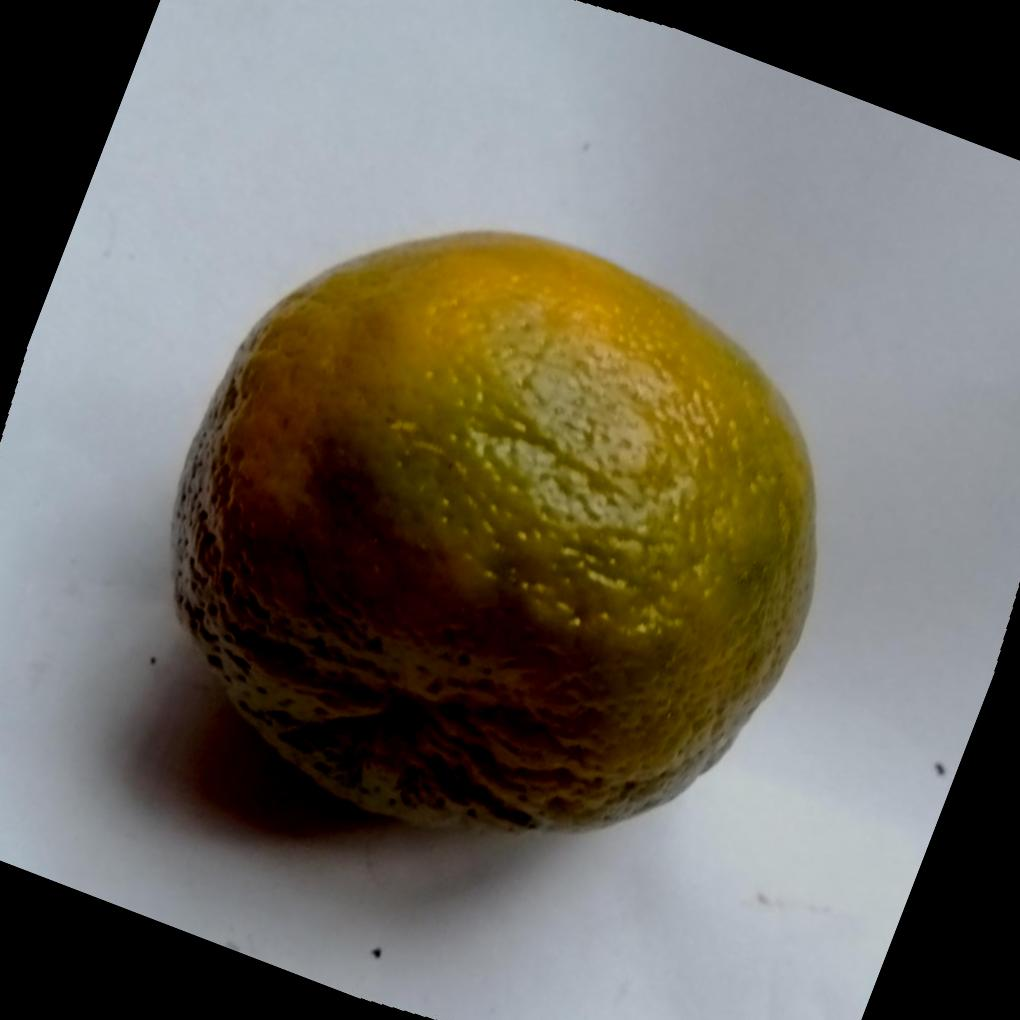FreshGuava: (171, 230, 821, 835)
